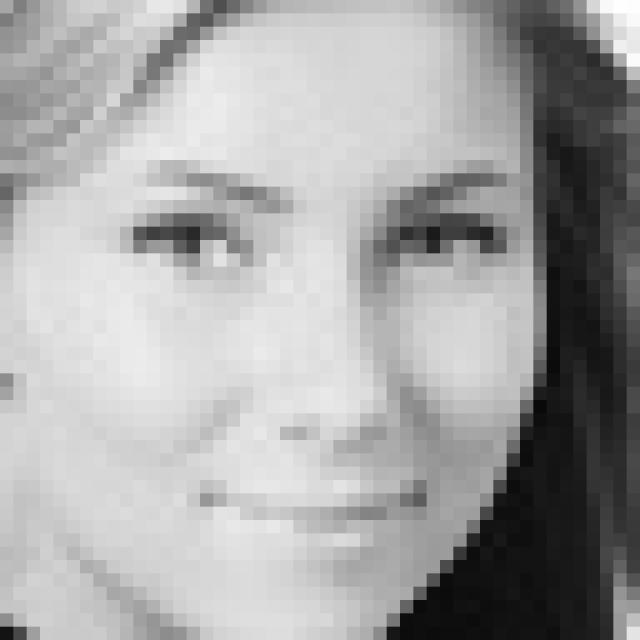neutral: (113, 144, 528, 574)
